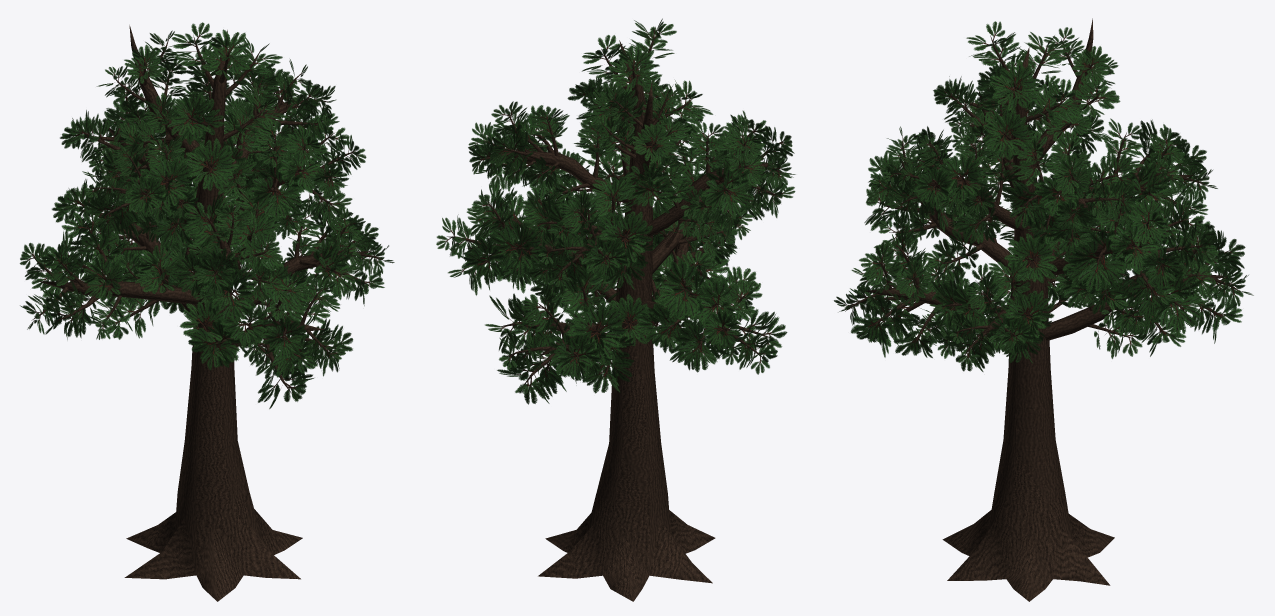
File: Bigtree.glb
The picture shows the model from 3 angles, left to right: view 1: azimuth 30°, elevation 25°; view 2: azimuth 150°, elevation 25°; view 3: azimuth 270°, elevation 25°; orthographic projection.
Visible parts, largest first — view 1: BigTree; view 2: BigTree; view 3: BigTree.
Part boxes in pixels (x1=…): BigTree: x1=20, y1=22, x2=394, y2=601; BigTree: x1=436, y1=18, x2=795, y2=601; BigTree: x1=834, y1=18, x2=1253, y2=601.
Size of what is drawn, in the model's own units: 17.63 by 28.31 by 20.53.
Materials: 2 (2 with a texture image).
